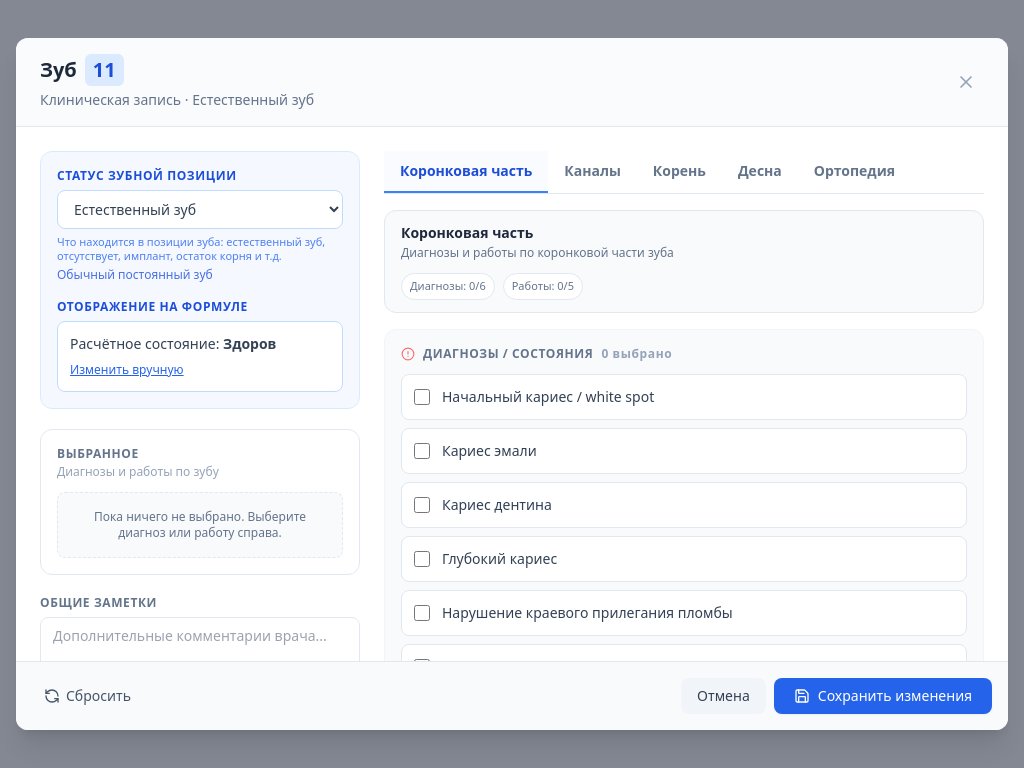
ToothEditorModal › changes available tabs when anatomical status changes
The image size is (1024, 768).
Select "Отсутствует" in the dropdown: [200, 210] box [57,190,343,229]
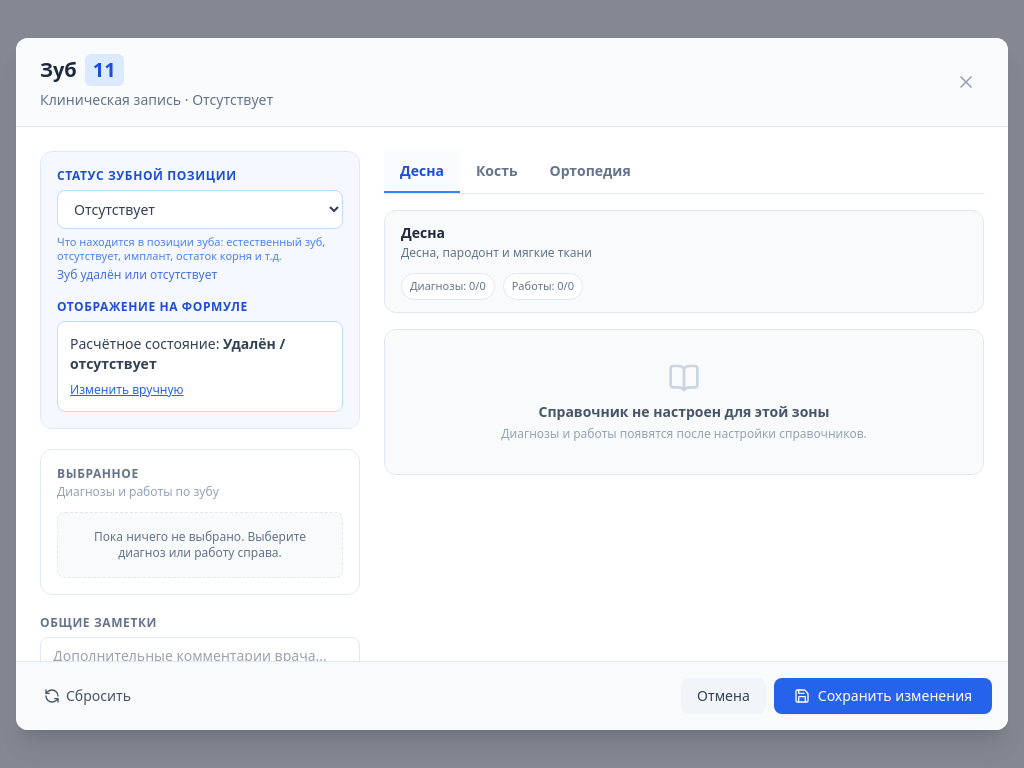
expect the text "Десна" is shown: met, box [384,151,460,193]
expect the text "Кость" is shown: met, box [460,151,534,193]
expect the text "Каналы" is gone: met
